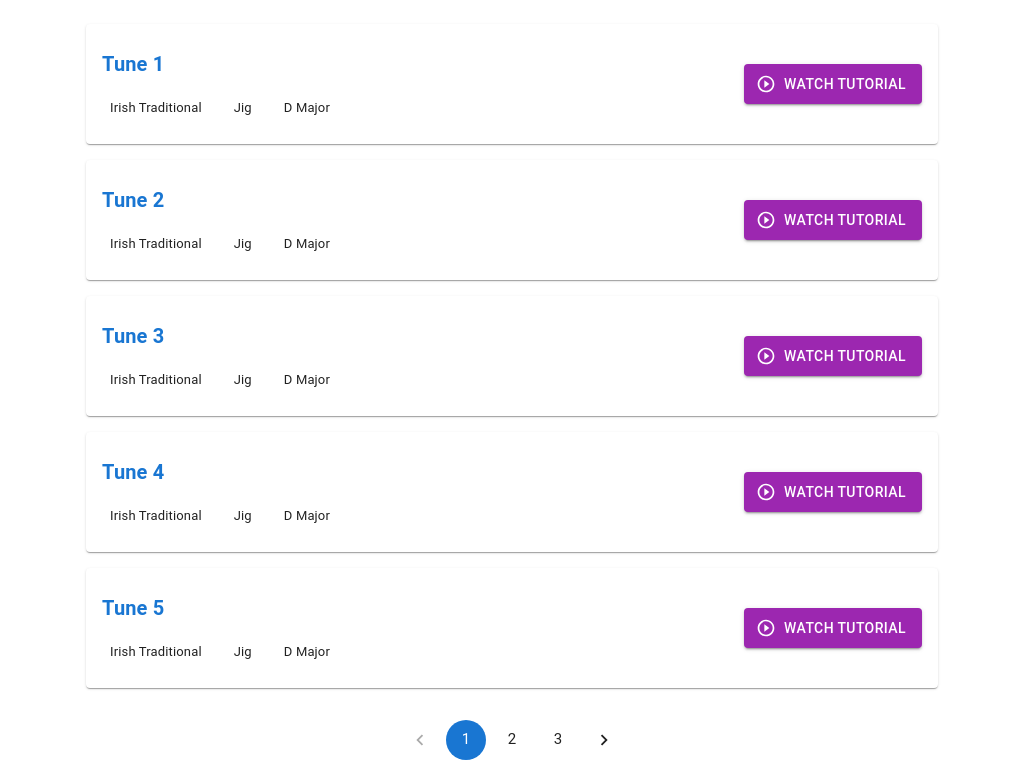
SearchResults › Pagination › should change page when pagination button is clicked
Click the button named "Go to page 2". click: (512, 740)
box: [492,720,532,760]
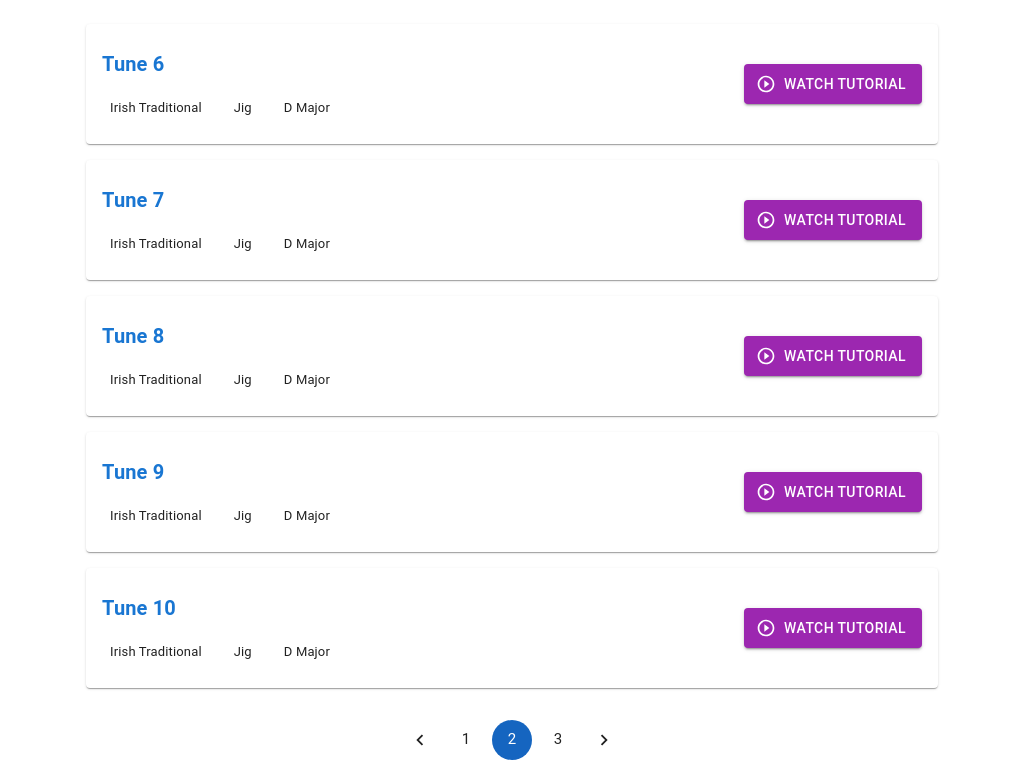
Result: the heading "Tune 6" is shown at [102,52,164,76]
Result: the heading "Tune 10" is shown at [102,596,176,620]
